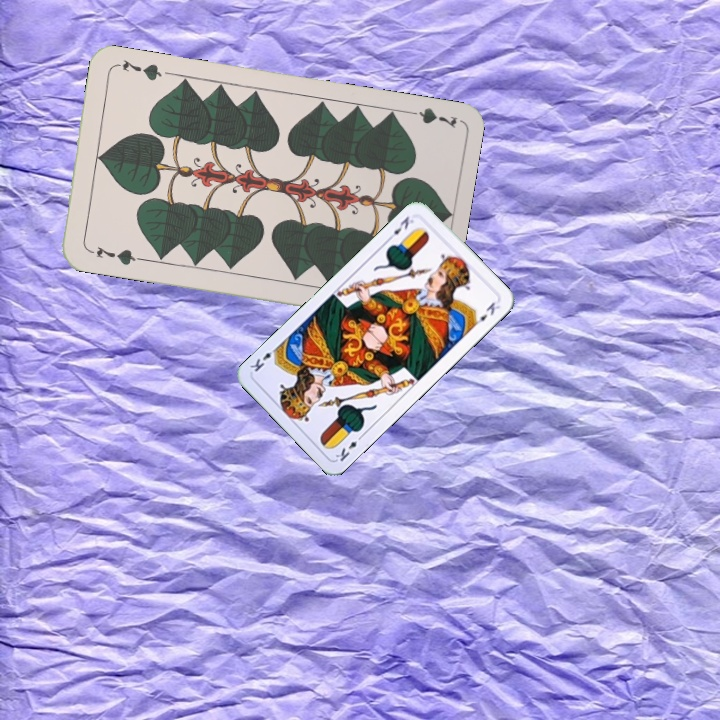EK: (331, 430, 366, 464), (383, 212, 416, 243)
G7: (400, 103, 459, 130), (92, 242, 142, 268)
